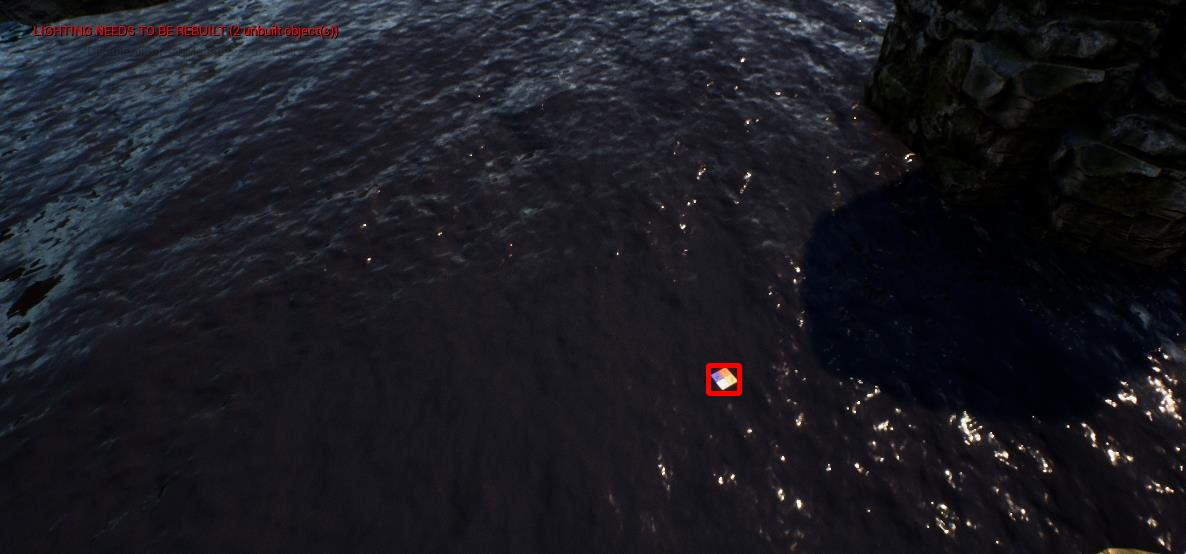nfpa: (708, 365, 739, 393)
